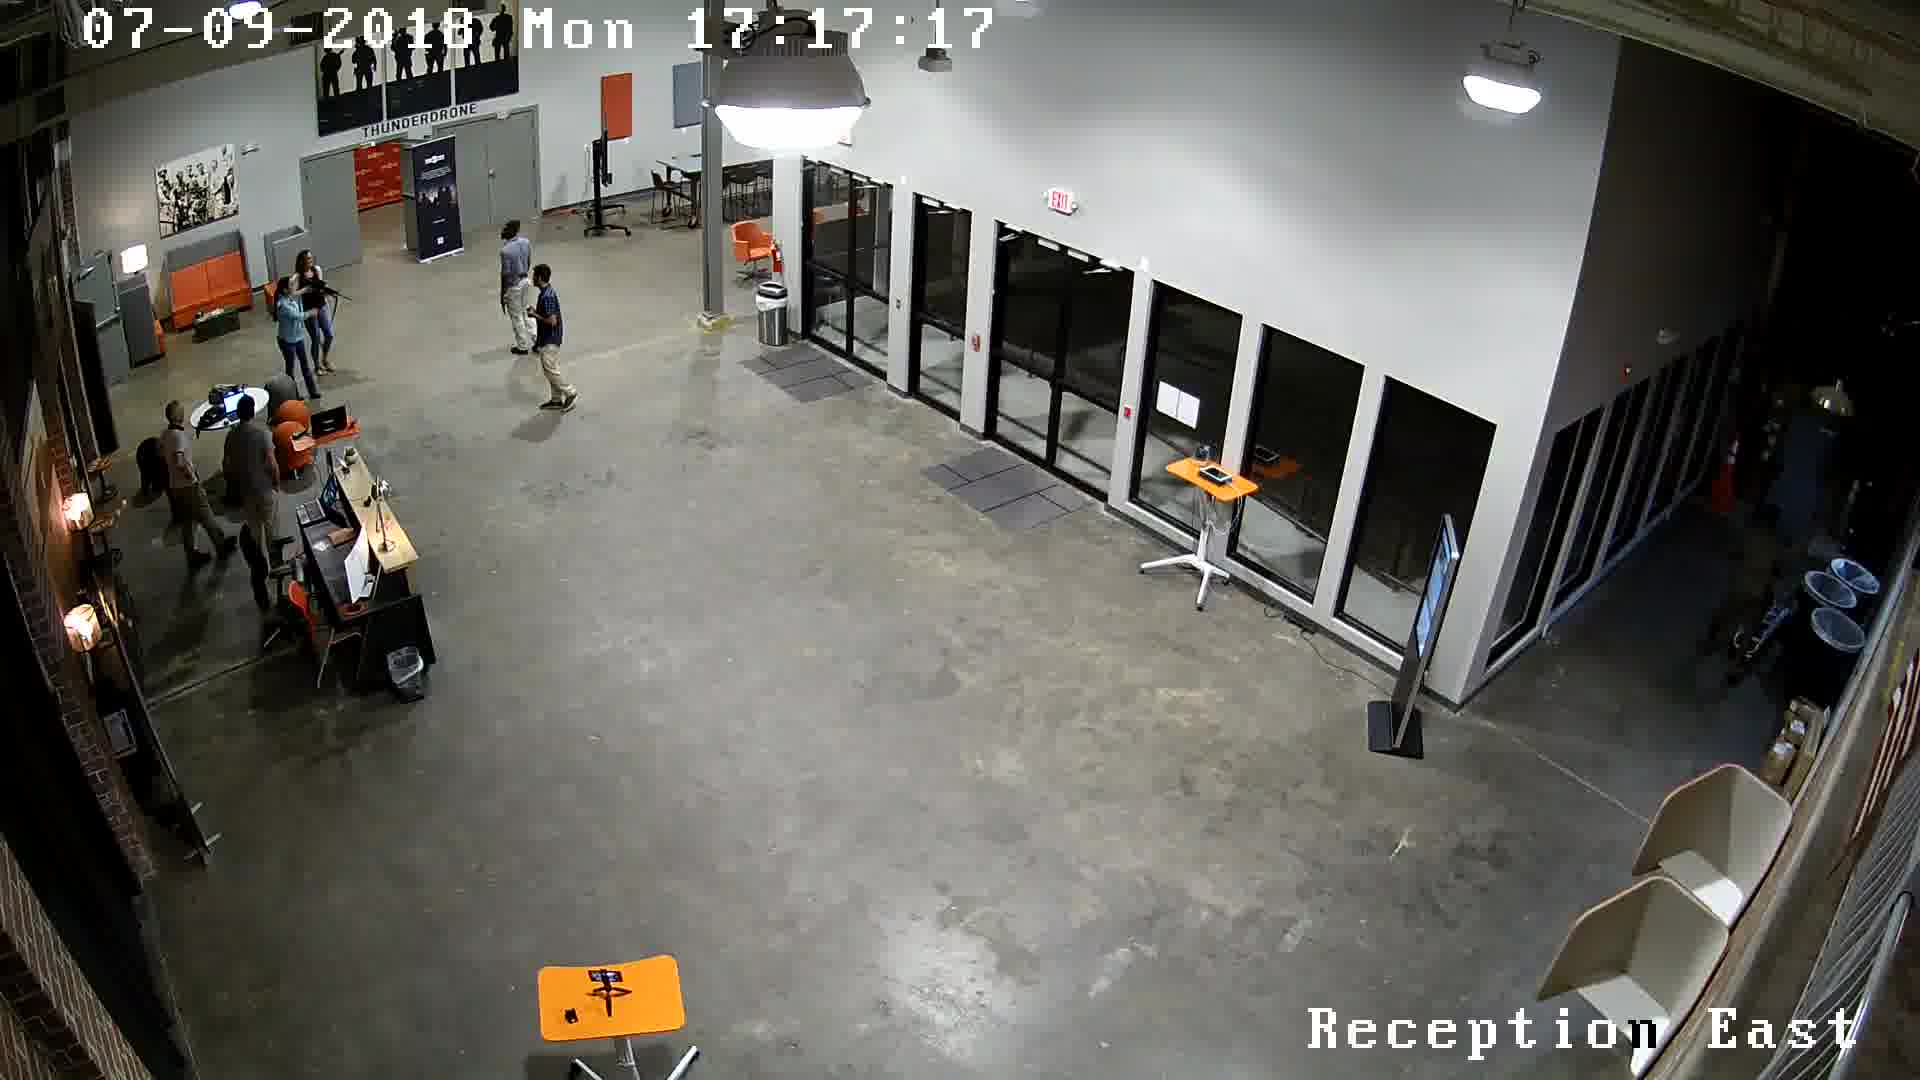pistol: (492, 289, 512, 320)
